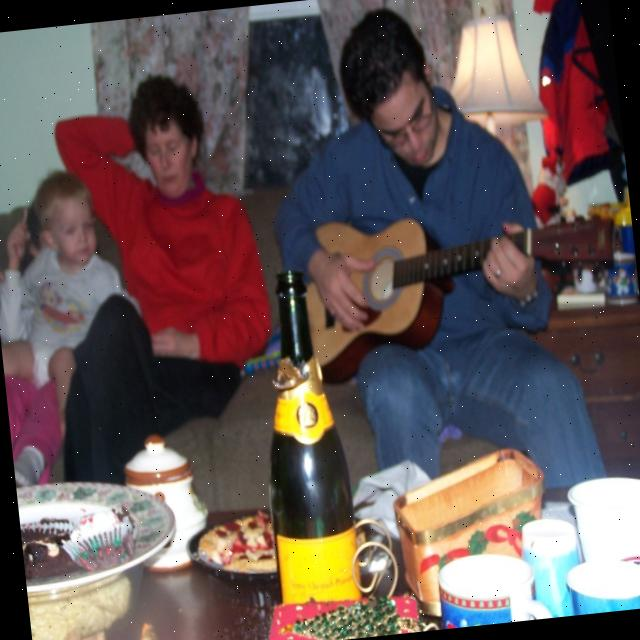guitar: (296, 190, 633, 385)
